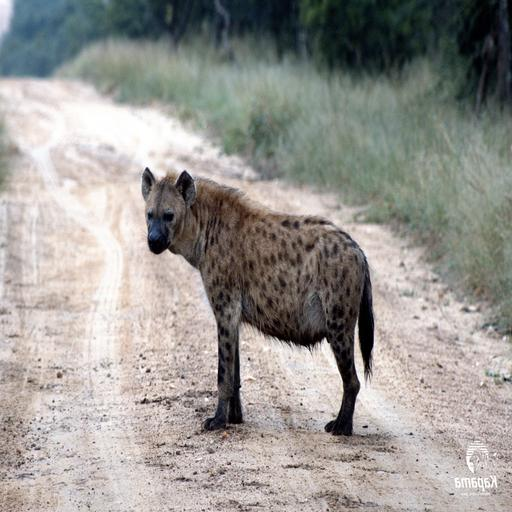hyenas: (116, 162, 448, 452)
